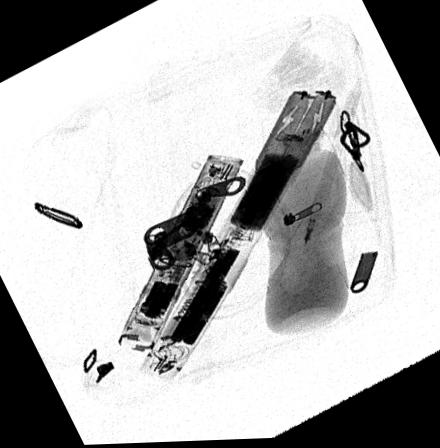Baton: (140, 88, 338, 383), (117, 155, 245, 353)
